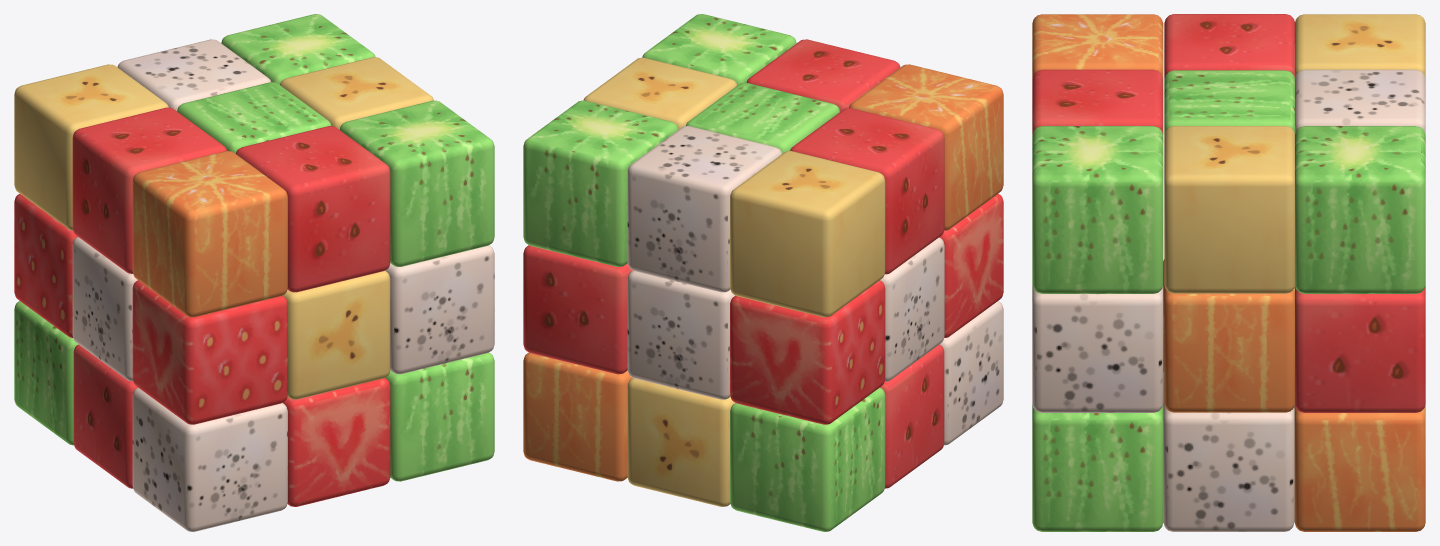
The model's file is Lab_5_cube.fbx.
The picture shows the model from 3 angles, left to right: view 1: azimuth 30°, elevation 25°; view 2: azimuth 150°, elevation 25°; view 3: azimuth 270°, elevation 25°; orthographic projection. The views are drawn at different scales.
Parts seen in each view (by area): view 1: Cube.001; view 2: Cube.001; view 3: Cube.001.
Boxes of the visible parts, x1=… form: Cube.001: x1=14, y1=14, x2=494, y2=531; Cube.001: x1=523, y1=14, x2=1003, y2=531; Cube.001: x1=1032, y1=14, x2=1425, y2=531.
Size of the model in its own units: 2.06 by 2.05 by 2.05.
1 material, 1 textured.
